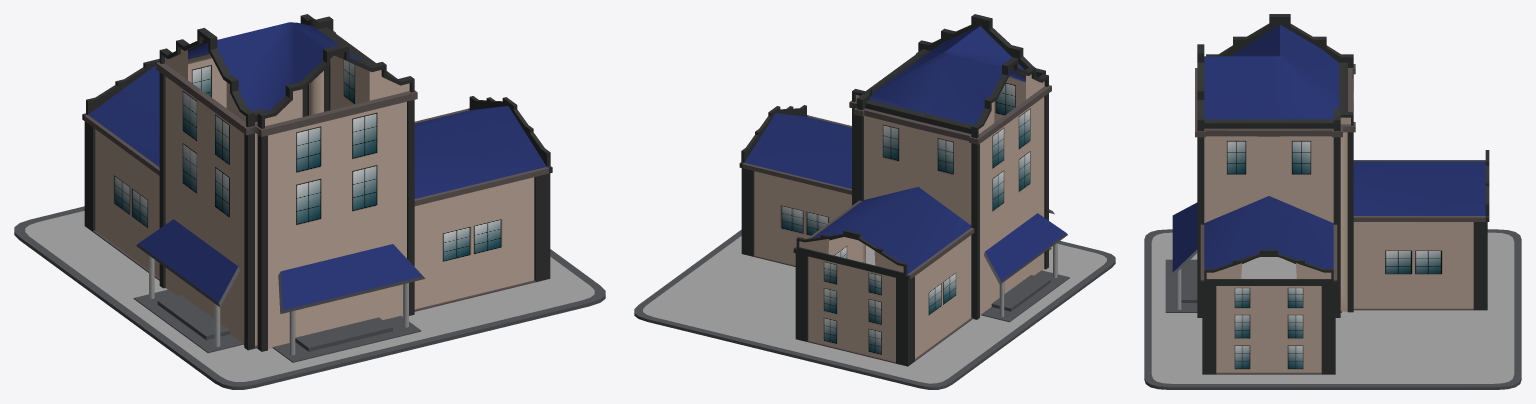
The model's file is Yakuza_QG.fbx.
The picture shows the model from 3 angles, left to right: view 1: azimuth 30°, elevation 25°; view 2: azimuth 150°, elevation 25°; view 3: azimuth 270°, elevation 25°; orthographic projection. The views are drawn at different scales.
Visible parts, largest first — view 1: Yakuza_QG; view 2: Yakuza_QG; view 3: Yakuza_QG.
Boxes of the visible parts, box(x1,y1,x2,y2) form: Yakuza_QG: box(14, 14, 605, 389); Yakuza_QG: box(634, 14, 1115, 389); Yakuza_QG: box(1144, 14, 1521, 389).
Size of the model in its own units: 91.56 by 65.14 by 92.62.
